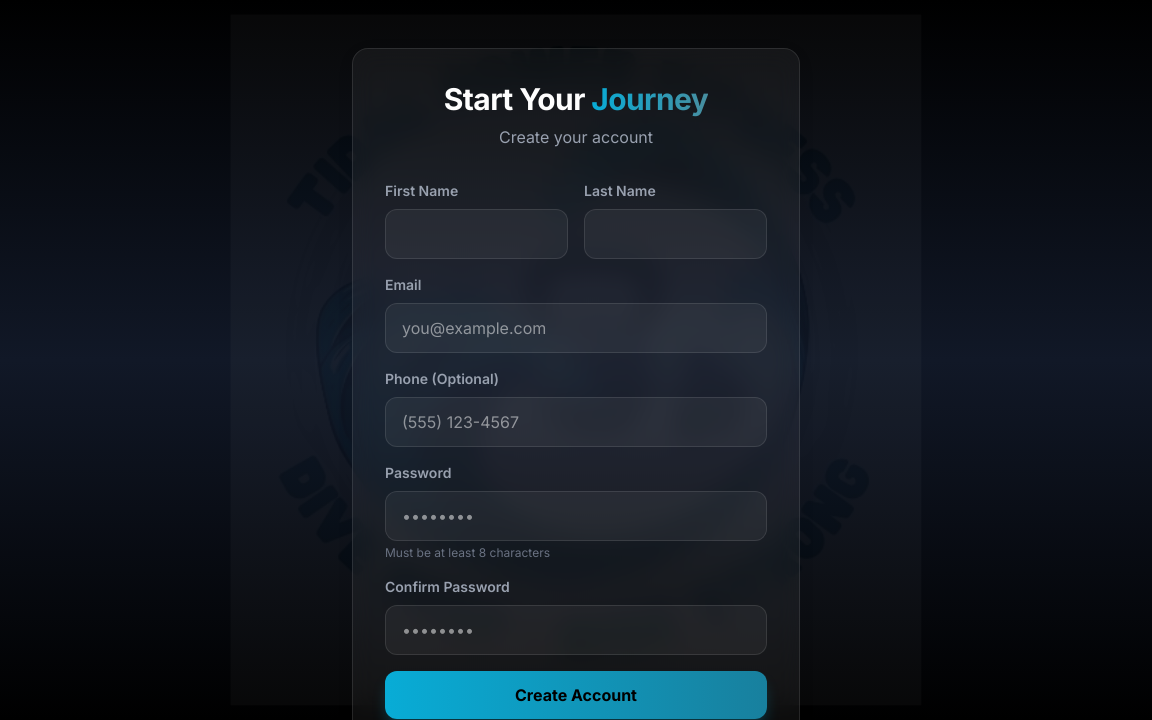
Test: RegisterPage › should show an error for passwords less than 8 characters
Type "John" into the field labelled "First Name" at (476, 234), box [385,209,568,259]
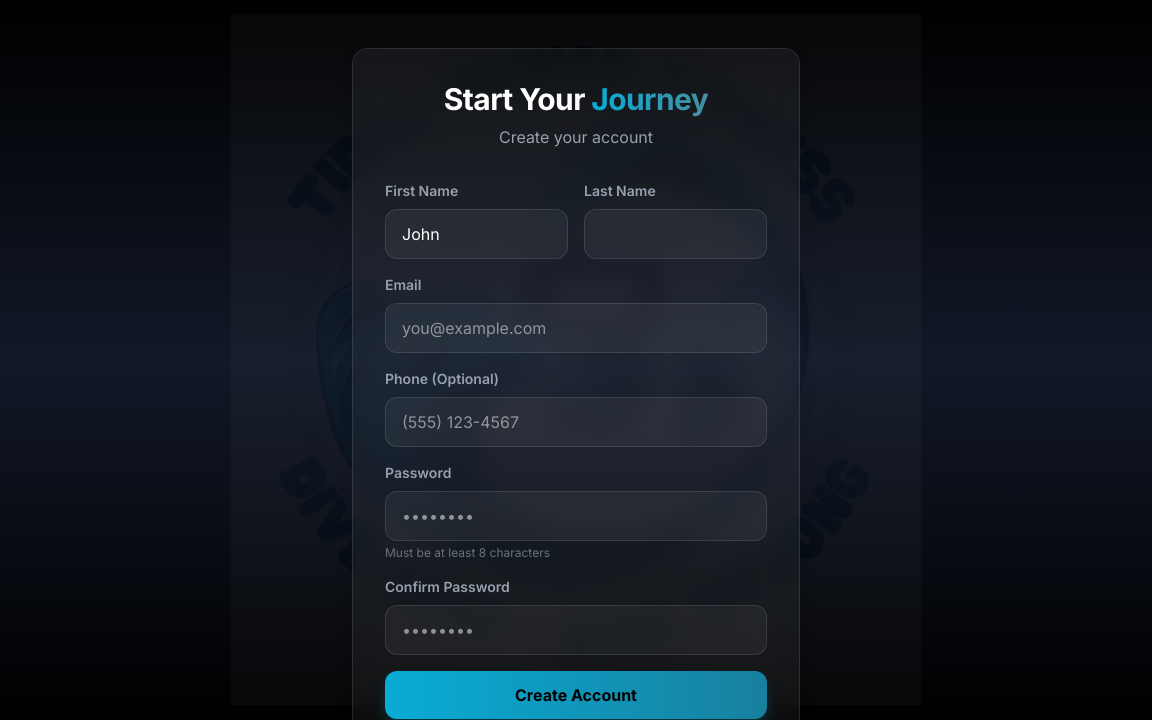
Type "Doe" into the field labelled "Last Name" at (676, 234), box [584,209,767,259]
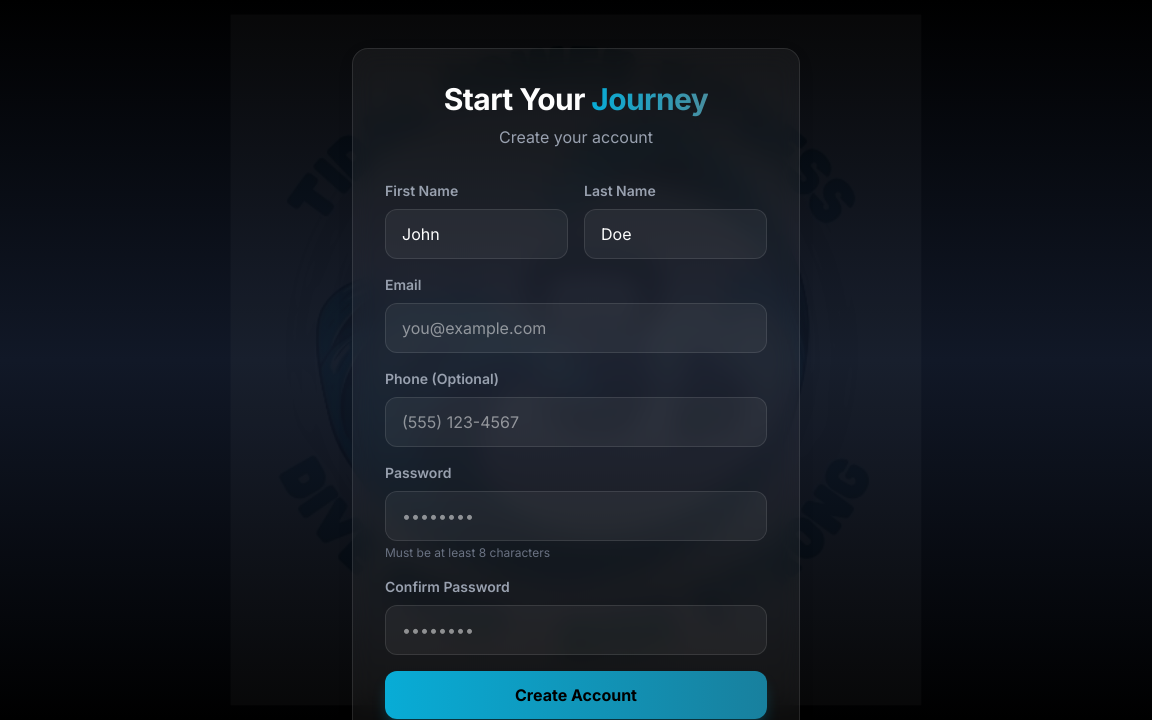
Type "john.doe@example.com" into the field labelled "Email" at (576, 328), box [385,303,767,353]
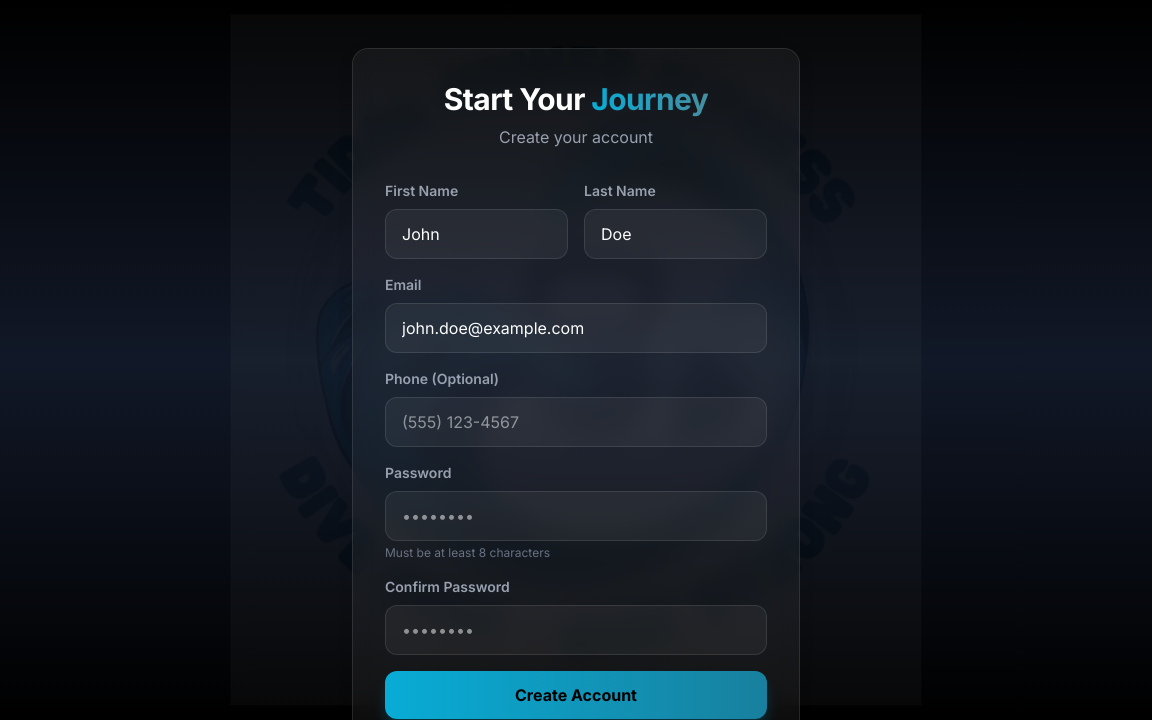
Type "pass" into the password field labelled "Password" at (576, 516), box [385,491,767,541]
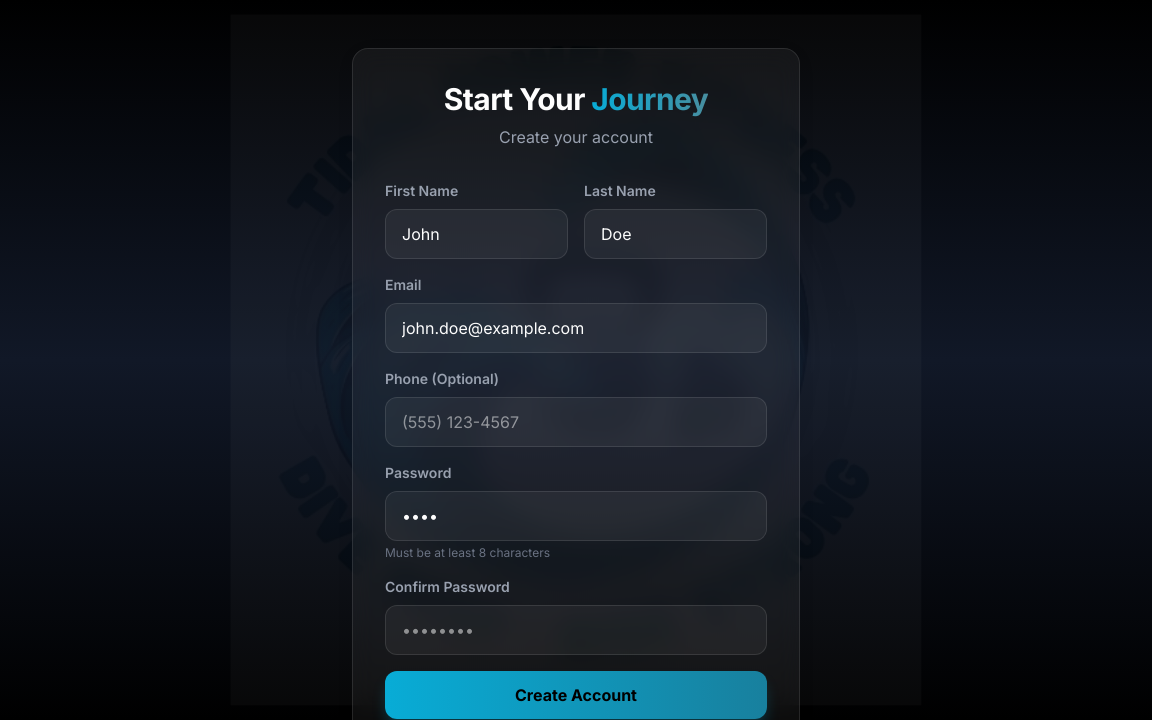
Type "pass" into the password field labelled "Confirm Password" at (576, 630), box [385,605,767,655]
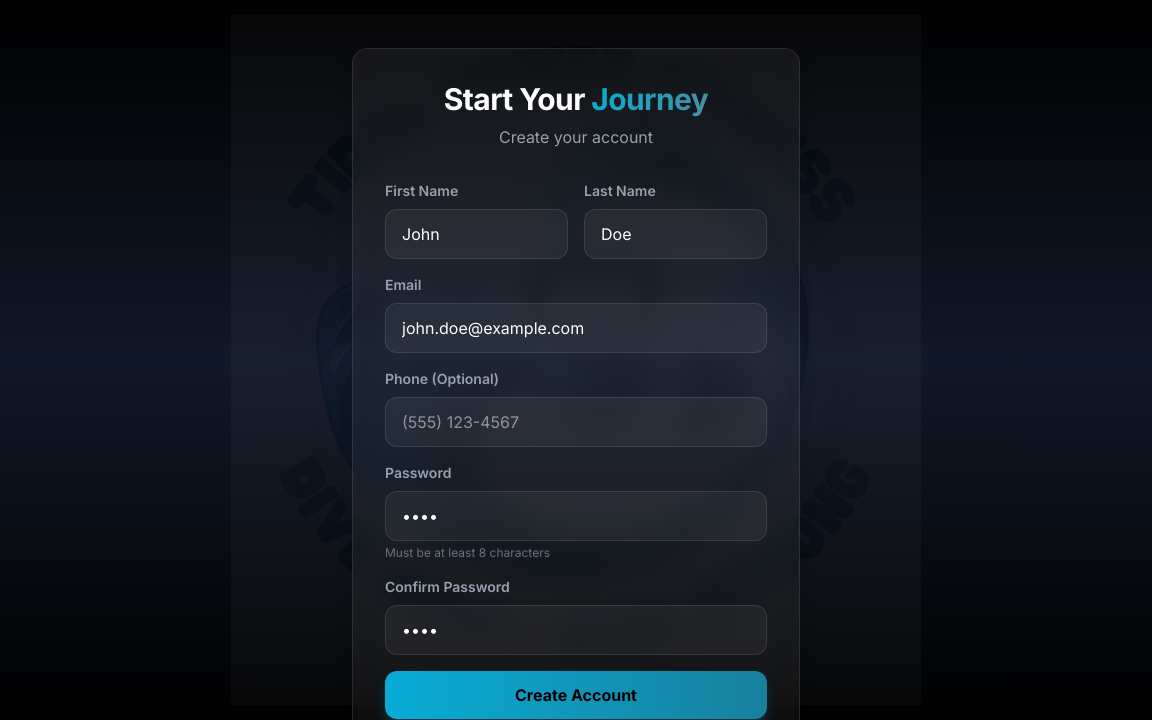
Click the button "Create Account" at (576, 695), box [385,671,767,719]
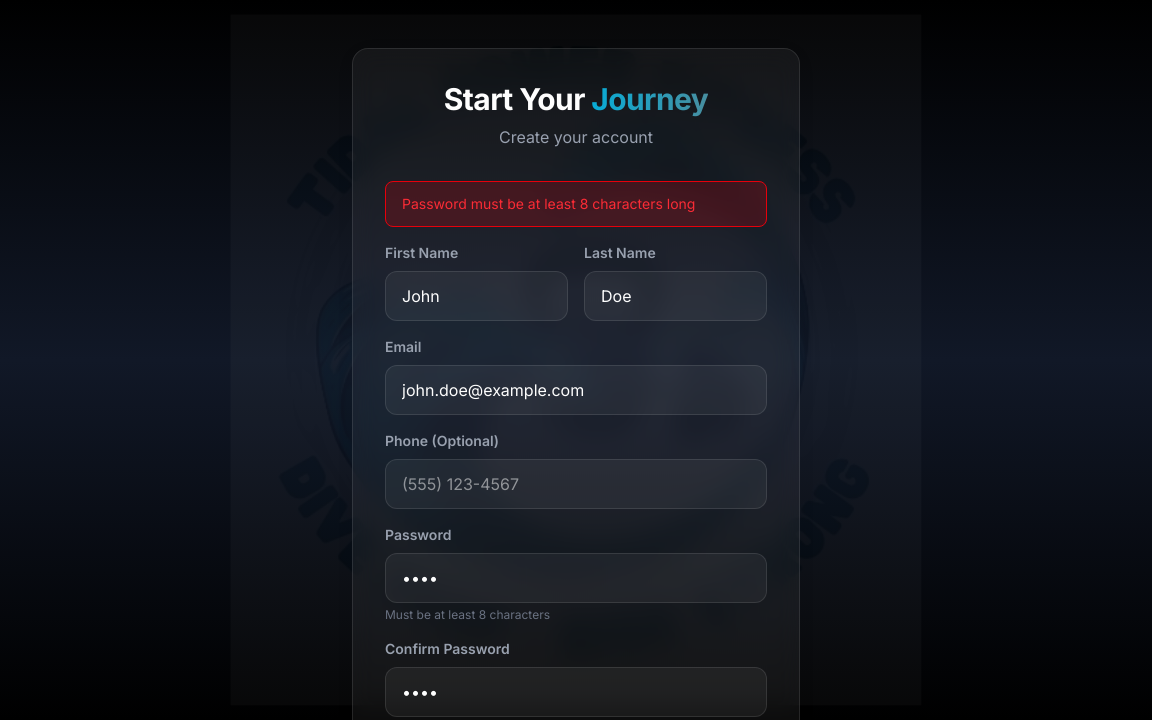
Expected: the text "Password must be at least 8 characters long" is shown, [385,181,767,227]
